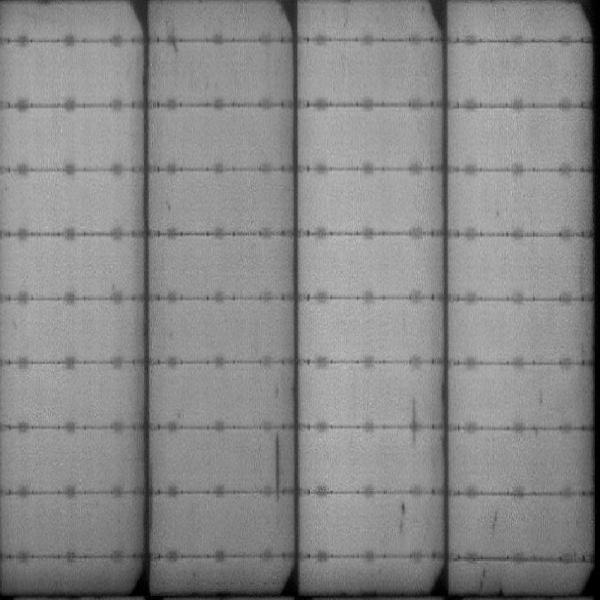scratch: (407, 396, 421, 449), (273, 436, 283, 508), (395, 501, 413, 534), (487, 505, 504, 534), (475, 566, 493, 592)
